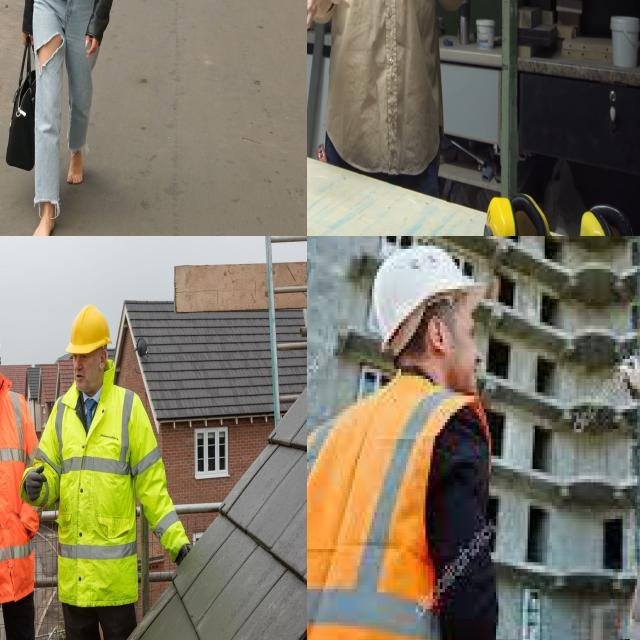Barefoots: (30, 210, 54, 236), (67, 148, 83, 184)
face_nomask: (423, 296, 491, 399), (70, 355, 104, 396)
hand_glove: (615, 352, 640, 415), (26, 468, 52, 516)
head_helmet: (371, 242, 480, 336), (68, 304, 116, 356)
person: (307, 236, 503, 640), (39, 302, 198, 640), (0, 312, 70, 640)
vest: (307, 392, 471, 640), (51, 380, 141, 609), (0, 391, 39, 596)
